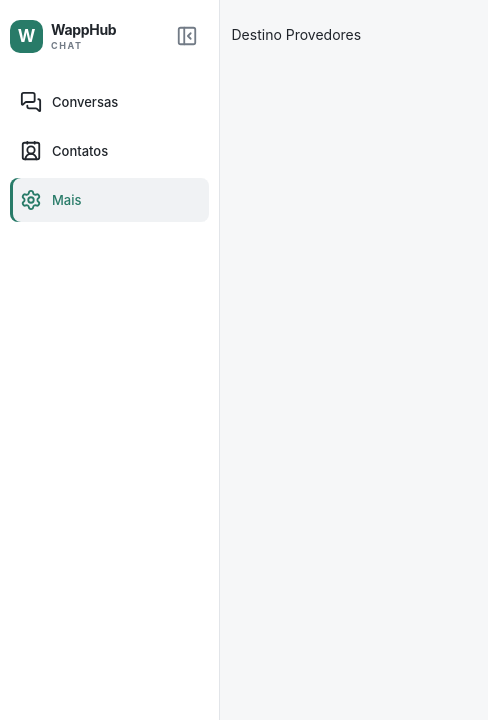
Test: conversation shell scope and navigation › keeps organization, operational extras and logout accessible without a long mobile bar
The width and height of the screenshot is (488, 720).
Click the button with aria-label "Mais áreas" at (110, 200), box [10,178,209,222]
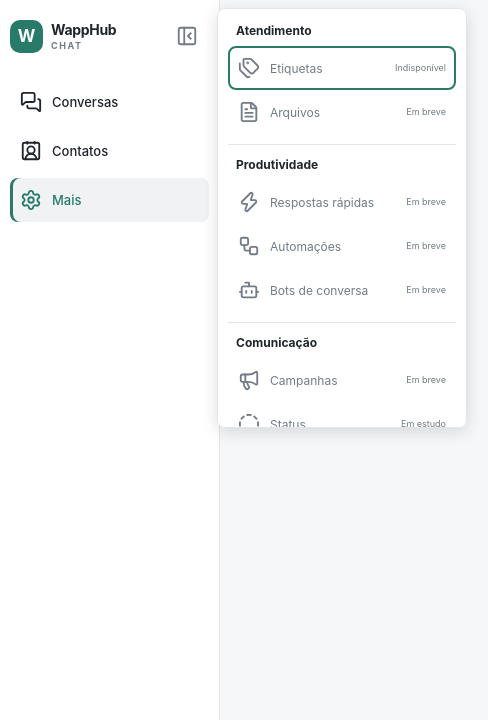
Press Escape in the element named "Menu Mais áreas", box [217,8,467,428]
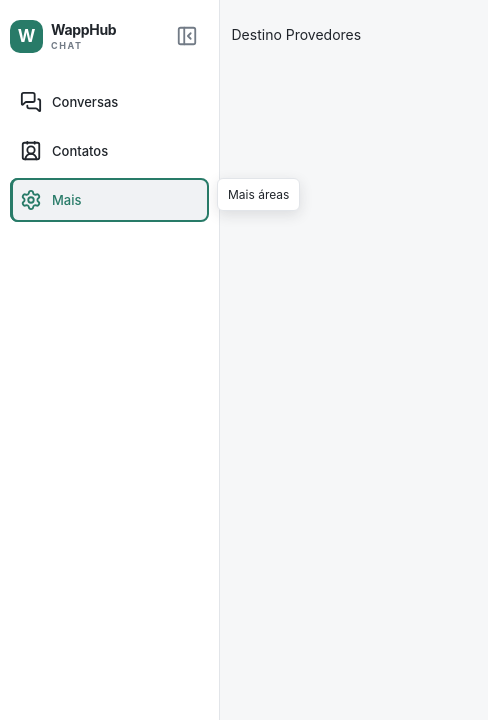
Click the button with aria-label "Mais áreas" at (110, 200), box [10,178,209,222]
(page scrolled)
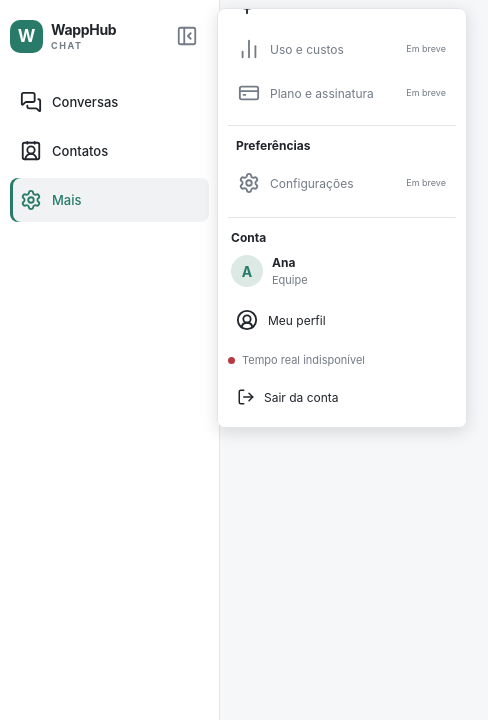
Expected: the button "Arquivos" is not shown
Now the button "Sair da conta" is shown, box [228,377,456,417]
Now the message reads "Tempo real indisponível", box [242,353,365,367]
